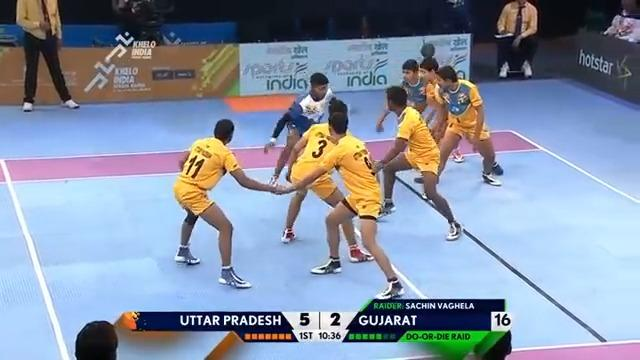Player: (276, 111, 405, 300), (172, 117, 289, 289), (263, 72, 369, 259), (371, 85, 463, 240), (416, 64, 503, 186), (14, 0, 80, 111)
Raider: (263, 71, 346, 186)
referee: (493, 0, 539, 79), (111, 0, 164, 45)
